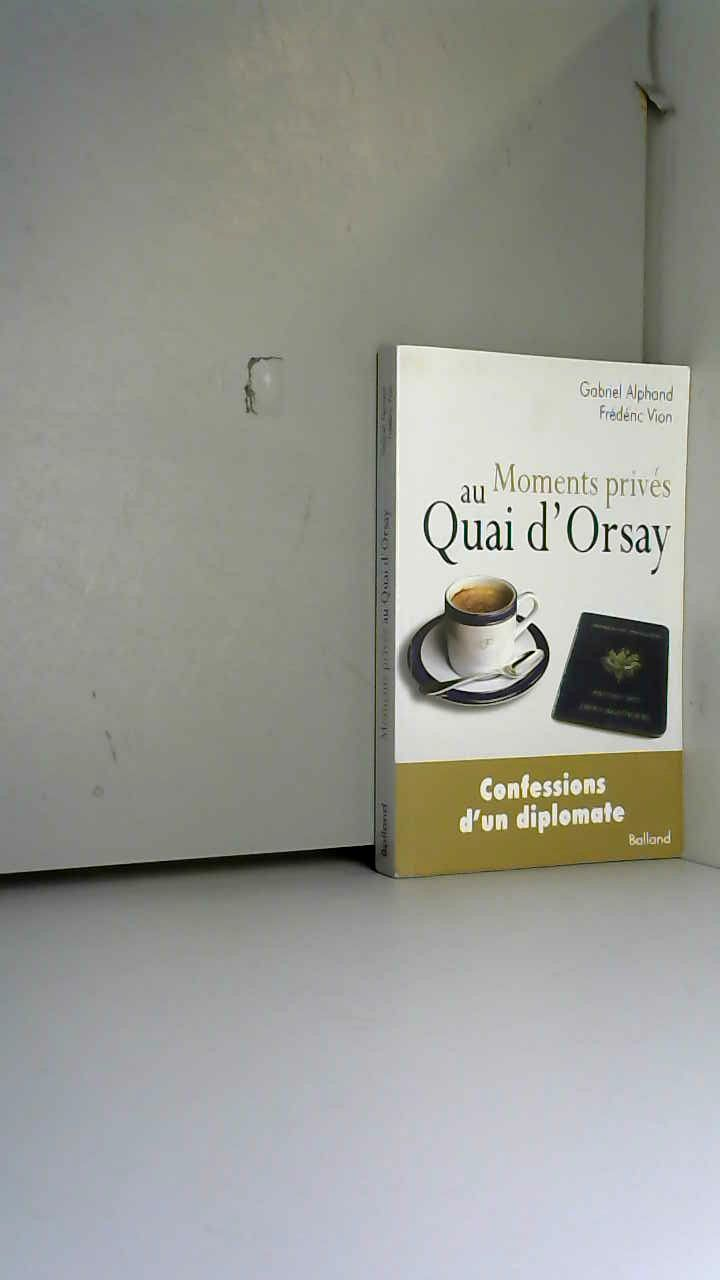book: (340, 310, 720, 906)
